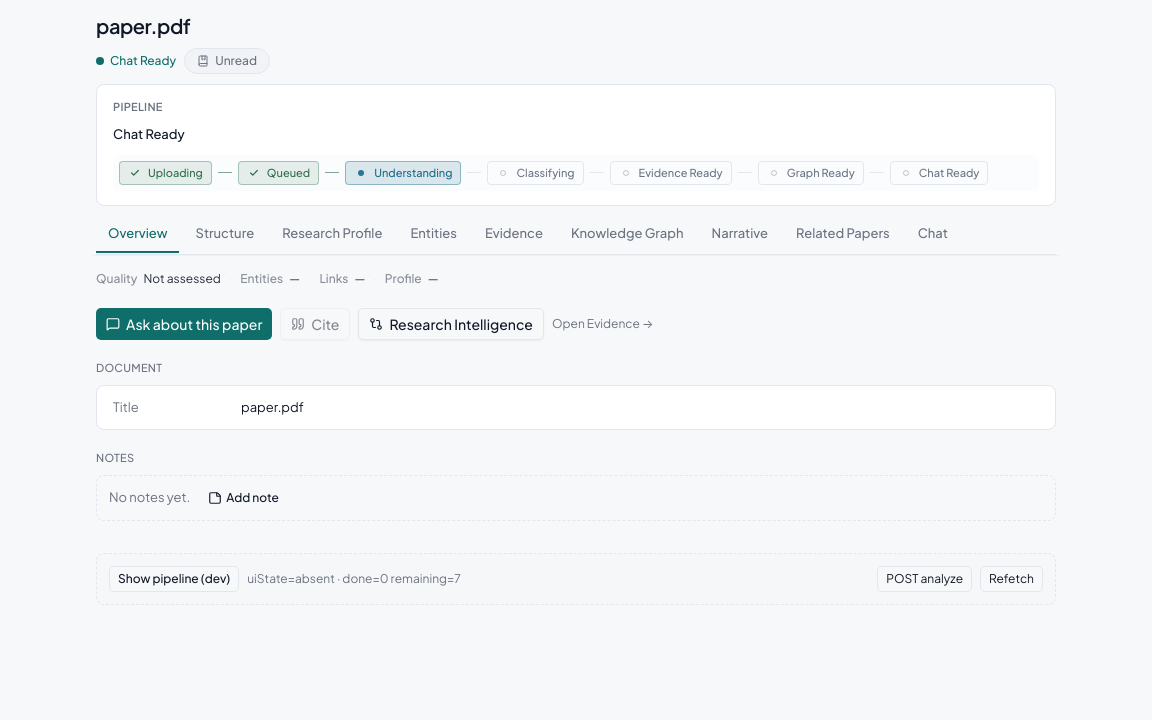
Paper Workspace shell (M4) › shows Structure tab content from document understanding (or empty)
This screenshot has width=1152, height=720.
Expected: the heading "paper.pdf" is shown, x1=96 y1=13 x2=190 y2=38
Click the tab "Structure" at [225, 234], box x1=184 y1=216 x2=266 y2=253
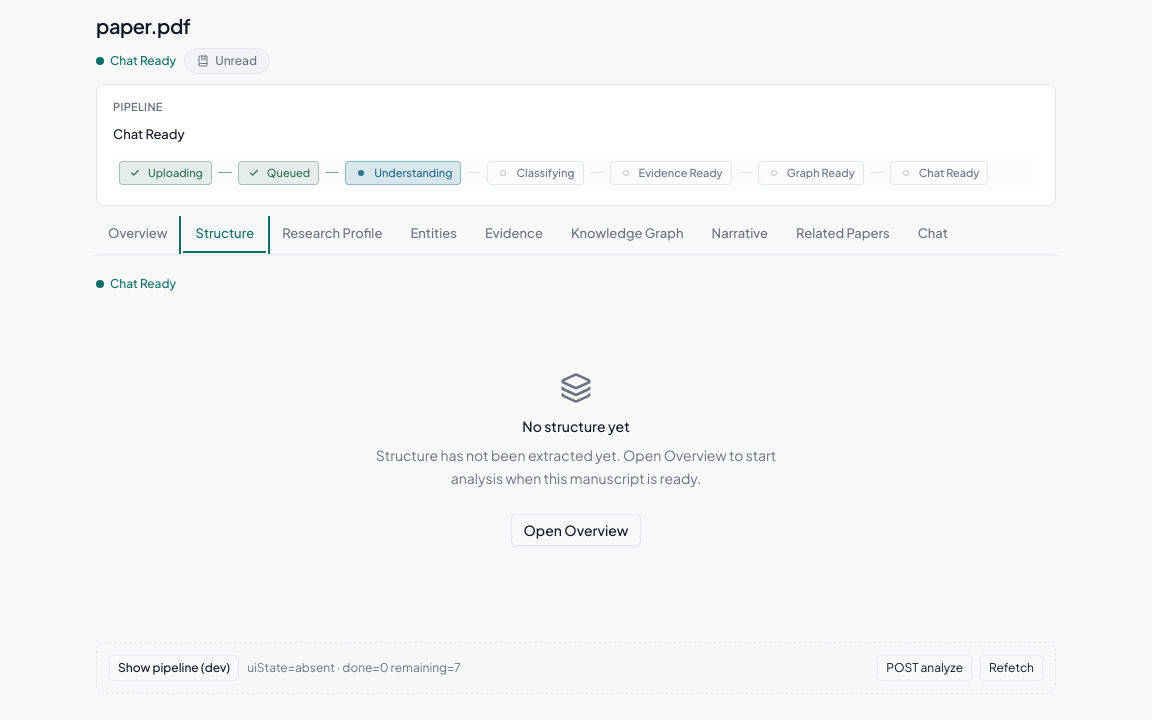
Now the text "No structure yet" is shown, box x1=522 y1=416 x2=630 y2=436
